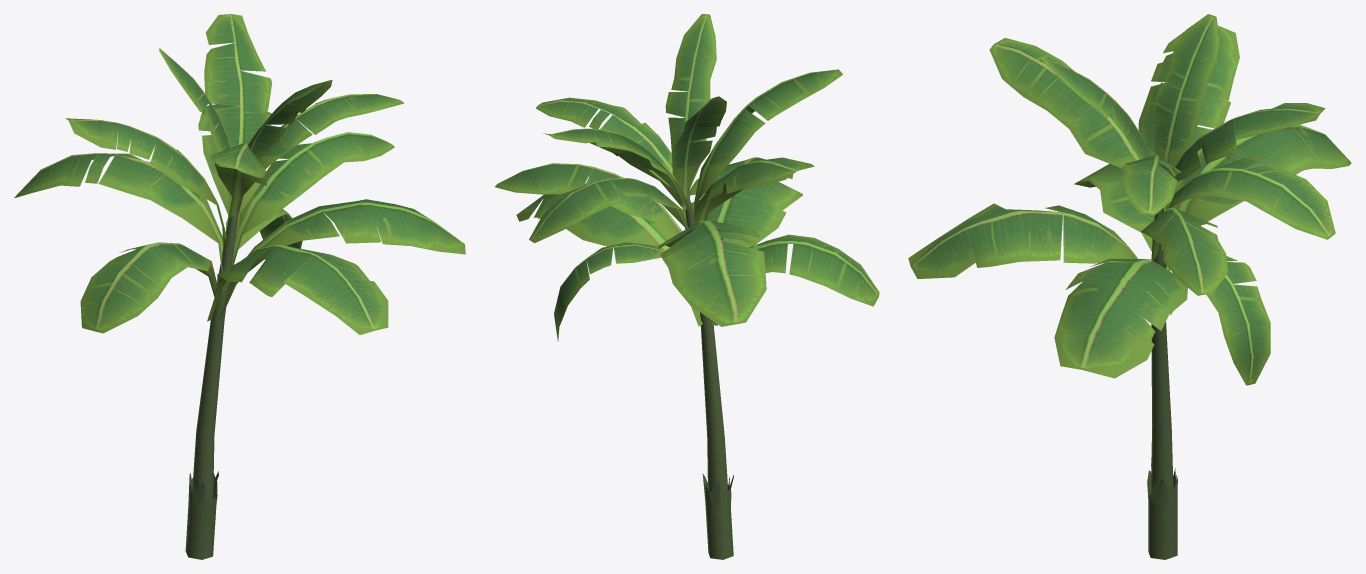
Rendered from P_BananaTree05.obj.
3 renders of one model, left to right at view 1: azimuth 30°, elevation 25°; view 2: azimuth 150°, elevation 25°; view 3: azimuth 270°, elevation 25°, orthographic. The views are drawn at different scales.
Size of the model in its own units: 5.48 by 7.03 by 5.28.
